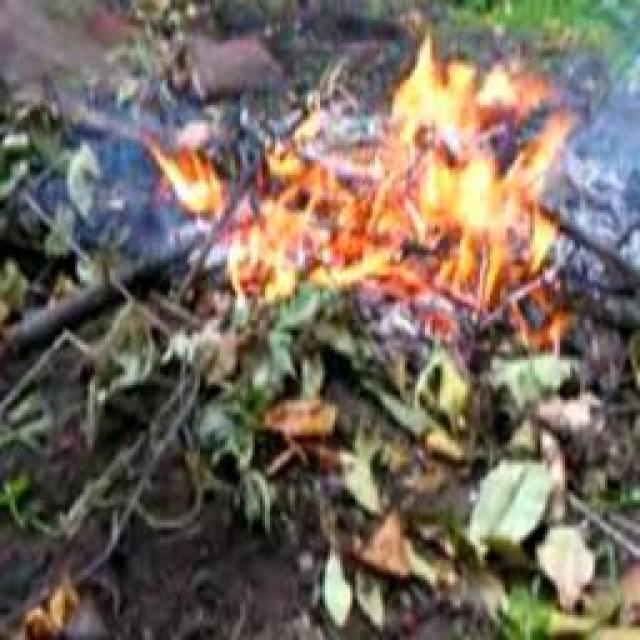Fire: (165, 47, 576, 300)
